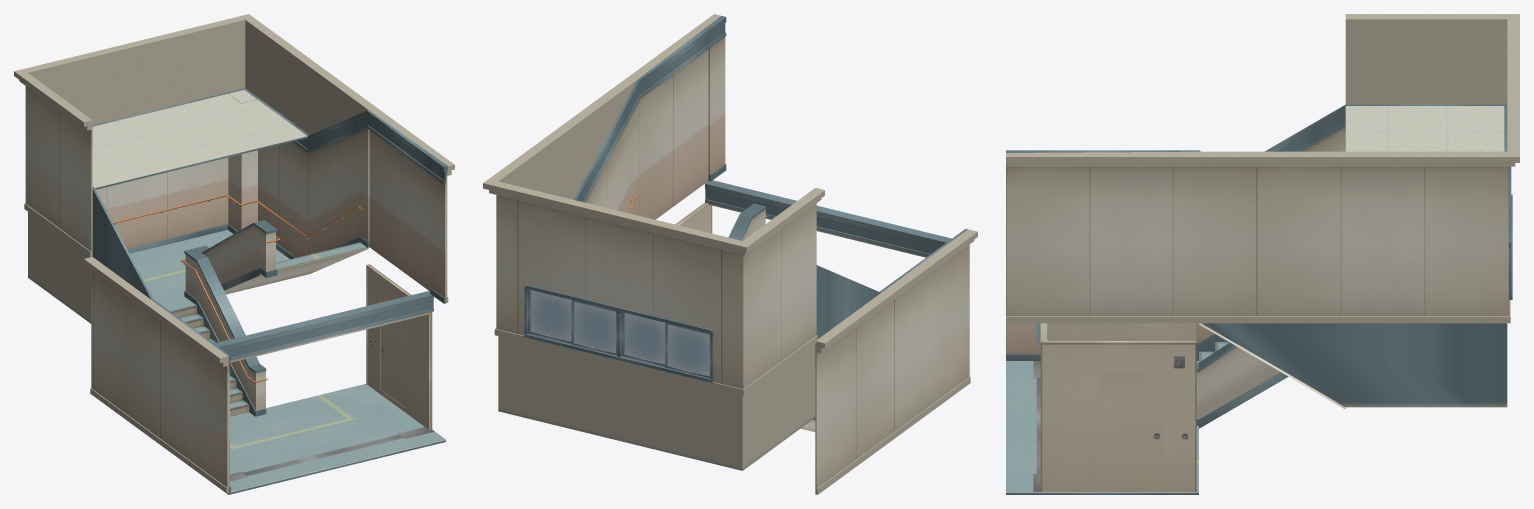
Rendered from SHW_Stairs_01_02.fbx.
3 renders of one model, left to right at view 1: azimuth 30°, elevation 25°; view 2: azimuth 150°, elevation 25°; view 3: azimuth 270°, elevation 25°, orthographic. The views are drawn at different scales.
Parts seen in each view (by area): view 1: wall_01, ceiling_01, door_R, fire_door_01, door2_R, handrail_01; view 2: wall_01, glass02 (×4), window; view 3: wall_01, door_R, ceiling_01, door2_R, door_L, fire_door_01.
Boxes of the visible parts, box(x1,y1,x2,y2) form: wall_01: box(14, 14, 454, 494); ceiling_01: box(92, 89, 445, 492); door_R: box(367, 267, 428, 428); fire_door_01: box(230, 264, 434, 481); door2_R: box(380, 299, 405, 407); handrail_01: box(113, 194, 362, 382); wall_01: box(483, 14, 977, 494); glass02 (×4): box(530, 289, 709, 375); window: box(524, 284, 713, 382); wall_01: box(1006, 14, 1519, 494); door_R: box(1042, 344, 1194, 491); ceiling_01: box(1006, 106, 1504, 492); door2_R: box(1100, 373, 1162, 486); door_L: box(1048, 323, 1194, 340); fire_door_01: box(1033, 323, 1196, 491).
Bounding box in the file's own units: 540 × 604 × 820.
